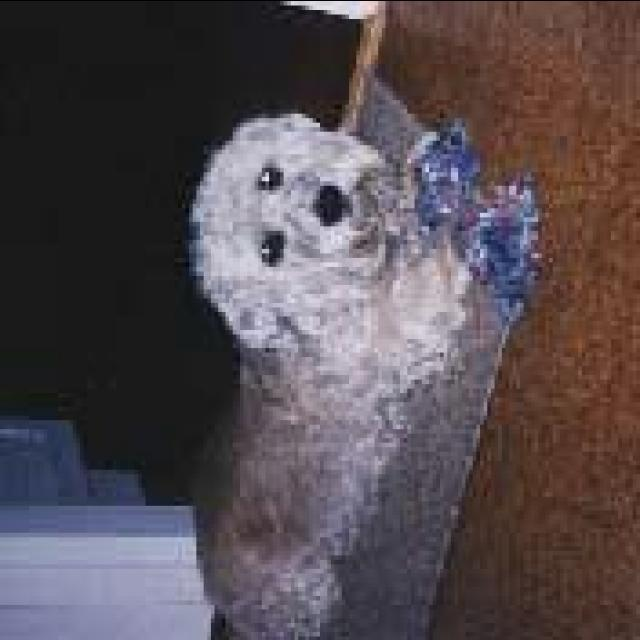dandie_dinmont: (185, 113, 483, 640)
